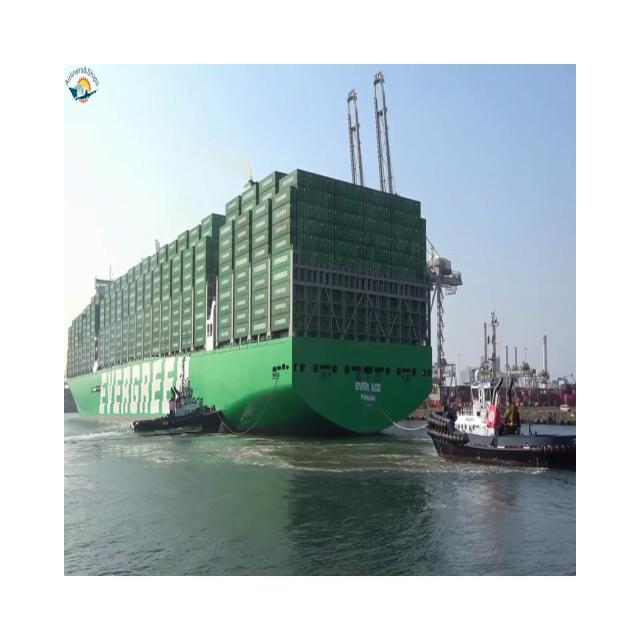OCR: (90, 357, 206, 439), (344, 368, 382, 409)
